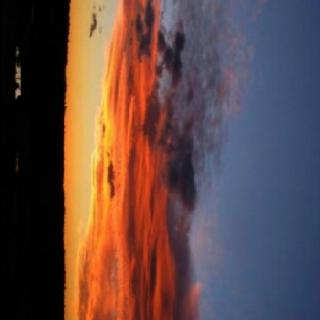Altostratus: (76, 0, 250, 320)
